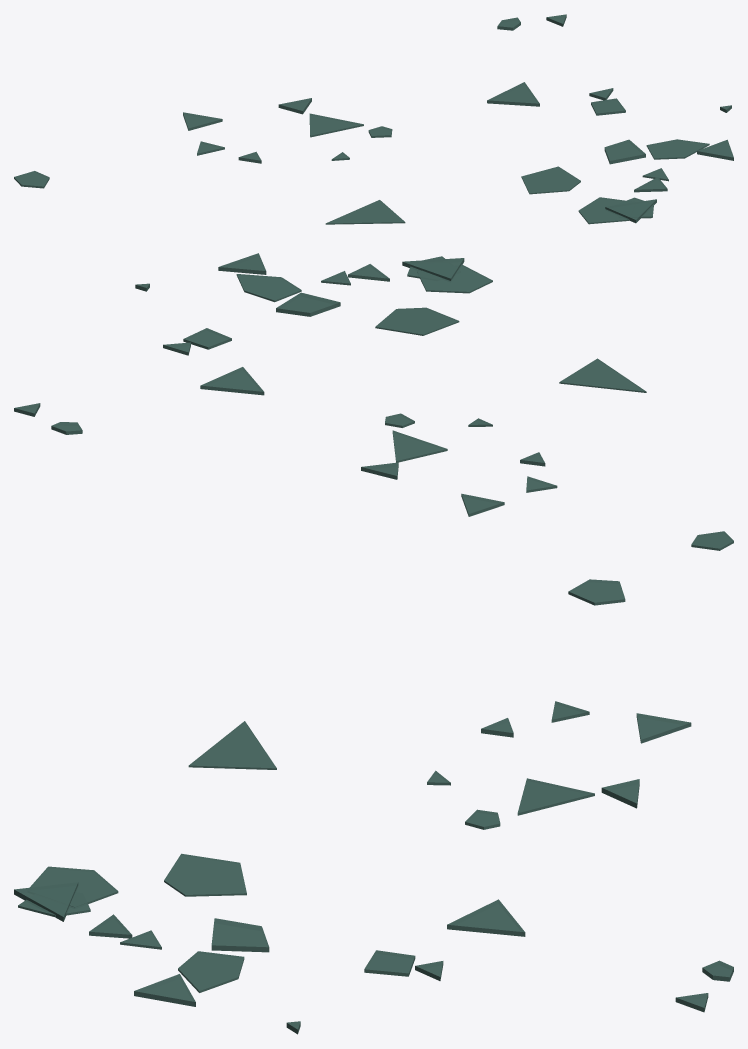
File: glass_shards.glb
The picture shows the model from 3 angles, top to bottom: view 1: azimuth 30°, elevation 25°; view 2: azimuth 150°, elevation 25°; view 3: azimuth 270°, elevation 25°; orthographic projection. The views are drawn at different scales.
Parts seen in each view (by area): view 1: Sparse original broken safety glass chips; view 2: Sparse original broken safety glass chips; view 3: Sparse original broken safety glass chips.
Part boxes in pixels (bbox=[...]): Sparse original broken safety glass chips: bbox=[14, 14, 733, 224]; Sparse original broken safety glass chips: bbox=[14, 253, 733, 550]; Sparse original broken safety glass chips: bbox=[14, 579, 733, 1034].
Bounding box in the file's own units: 0.4455 × 0.00318 × 0.3004.
